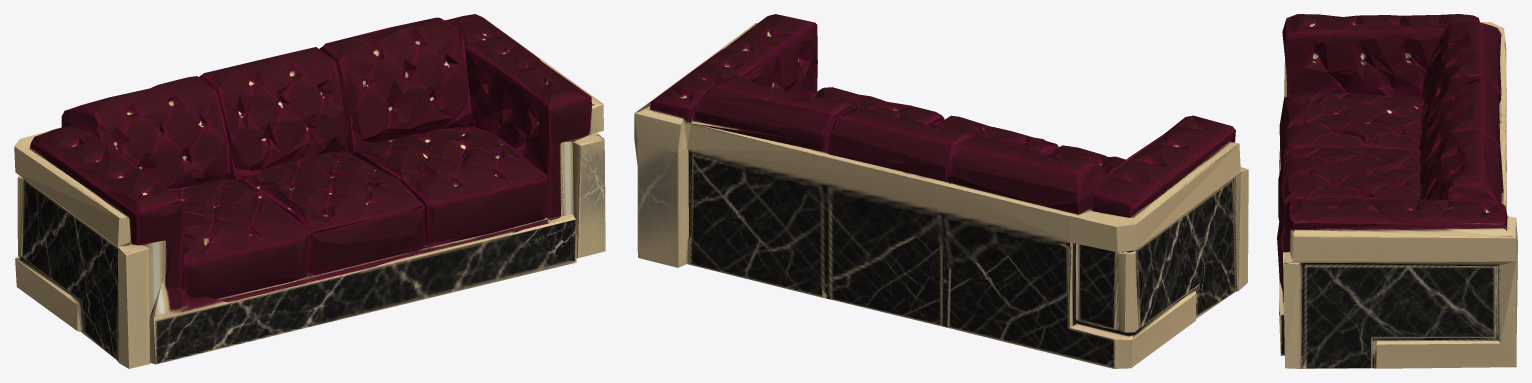
File: sofa_upgraded.glb
The picture shows the model from 3 angles, left to right: view 1: azimuth 30°, elevation 25°; view 2: azimuth 150°, elevation 25°; view 3: azimuth 270°, elevation 25°; orthographic projection. The views are drawn at different scales.
Parts seen in each view (by area): view 1: output_unwrapped; view 2: output_unwrapped; view 3: output_unwrapped.
Boxes of the visible parts, <box> form: output_unwrapped: <box>14,14,605,368</box>; output_unwrapped: <box>634,14,1248,368</box>; output_unwrapped: <box>1277,14,1517,368</box>.
Size of the model in its own units: 1.9 by 0.6706 by 0.8895.
1 material, 1 textured.
